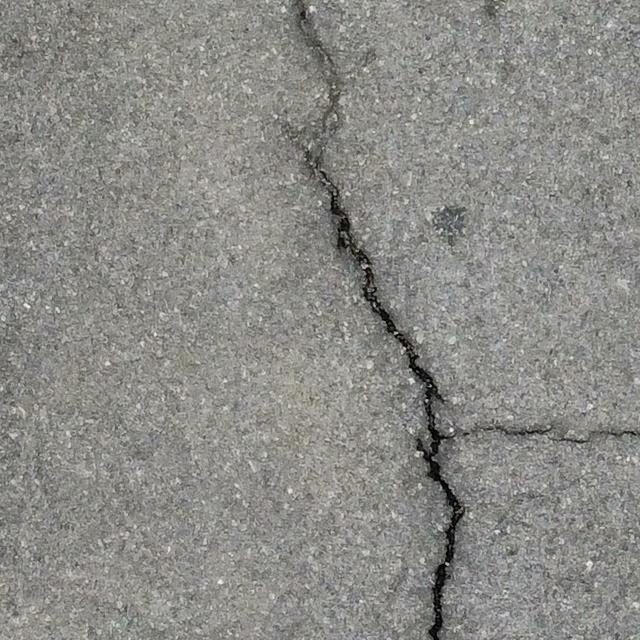LongitudinalCrack: (283, 1, 466, 640)
TransverseCrack: (442, 421, 640, 445)
